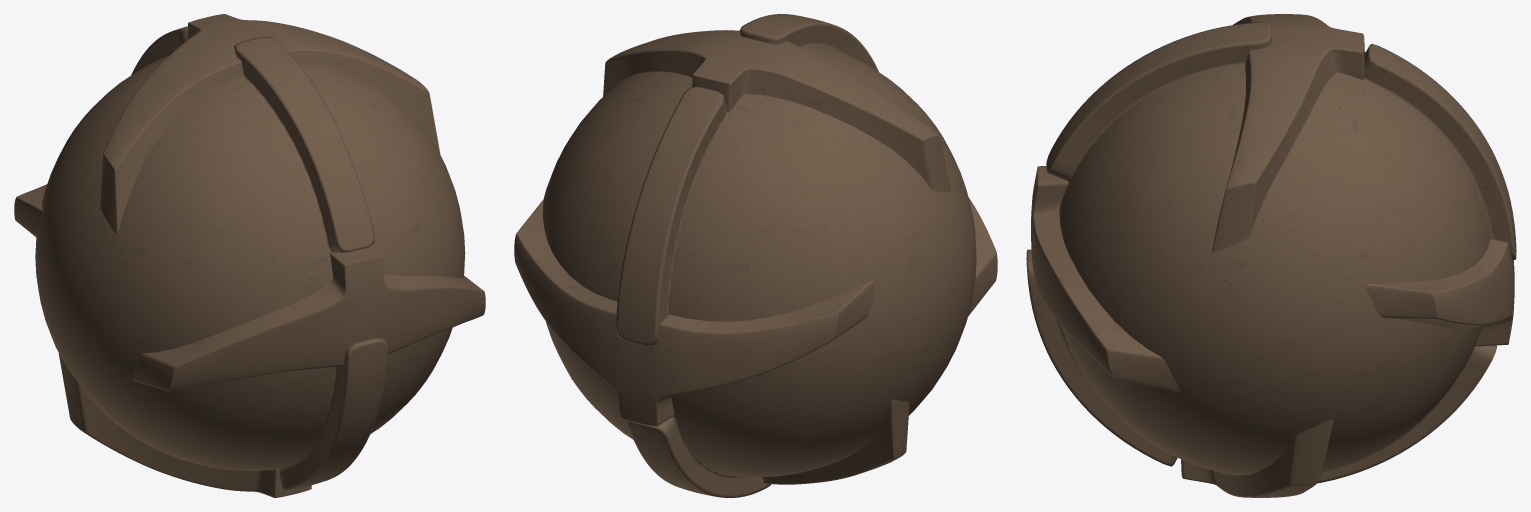
The model's file is clusterbomb-2.gltf.
3 views of the same model, side by side, from view 1: azimuth 30°, elevation 25°; view 2: azimuth 150°, elevation 25°; view 3: azimuth 270°, elevation 25° (orthographic). The views are drawn at different scales.
Visible parts, largest first — view 1: op1001; view 2: op1001; view 3: op1001.
Boxes of the visible parts, x1,y1,x2,y2 form: op1001: (14,14,485,497); op1001: (514,14,997,497); op1001: (1026,14,1516,497).
Bounding box in the file's own units: 64 × 71.11 × 70.48.
Materials: 1 (1 with a texture image).
